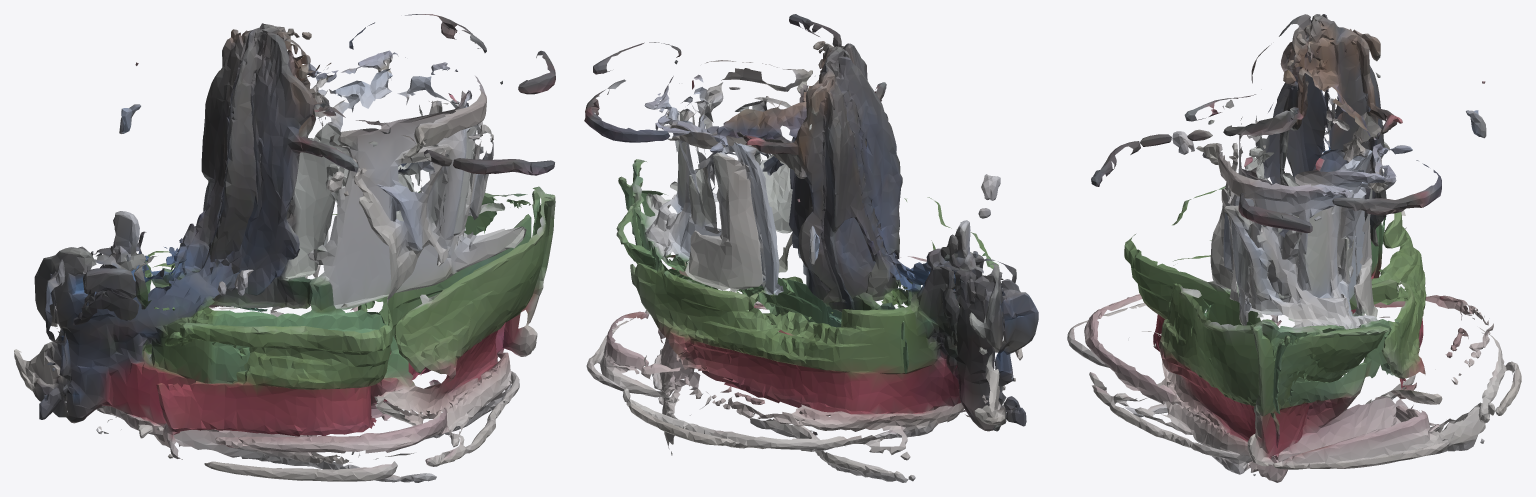
File: finished_model_20260511_151238.glb
3 renders of one model, left to right at view 1: azimuth 30°, elevation 25°; view 2: azimuth 150°, elevation 25°; view 3: azimuth 270°, elevation 25°, orthographic. The views are drawn at different scales.
Parts seen in each view (by area): view 1: finished_model_20260511_151238.ply; view 2: finished_model_20260511_151238.ply; view 3: finished_model_20260511_151238.ply.
Boxes of the visible parts, x1,y1,x2,y2 form: finished_model_20260511_151238.ply: (14, 14, 555, 482); finished_model_20260511_151238.ply: (584, 14, 1038, 482); finished_model_20260511_151238.ply: (1067, 14, 1521, 482).
Bounding box in the file's own units: 0.1905 × 0.1624 × 0.1605.
